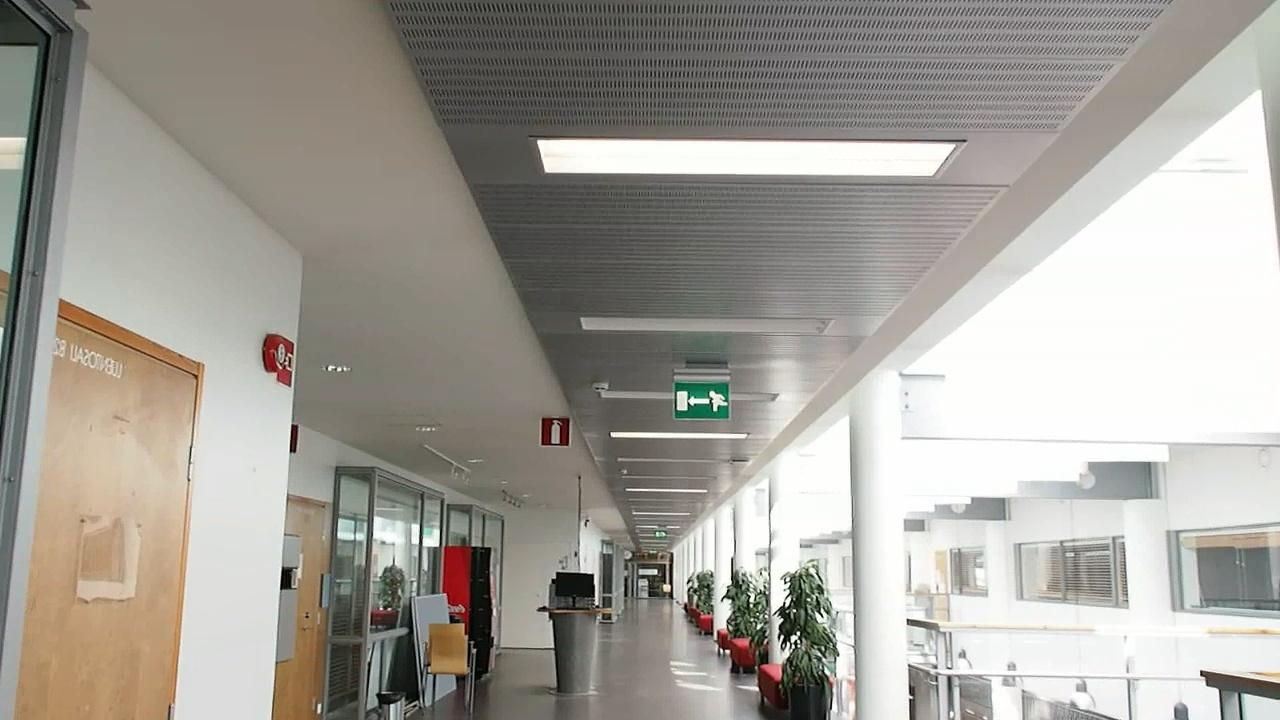exit: (672, 382, 737, 425)
